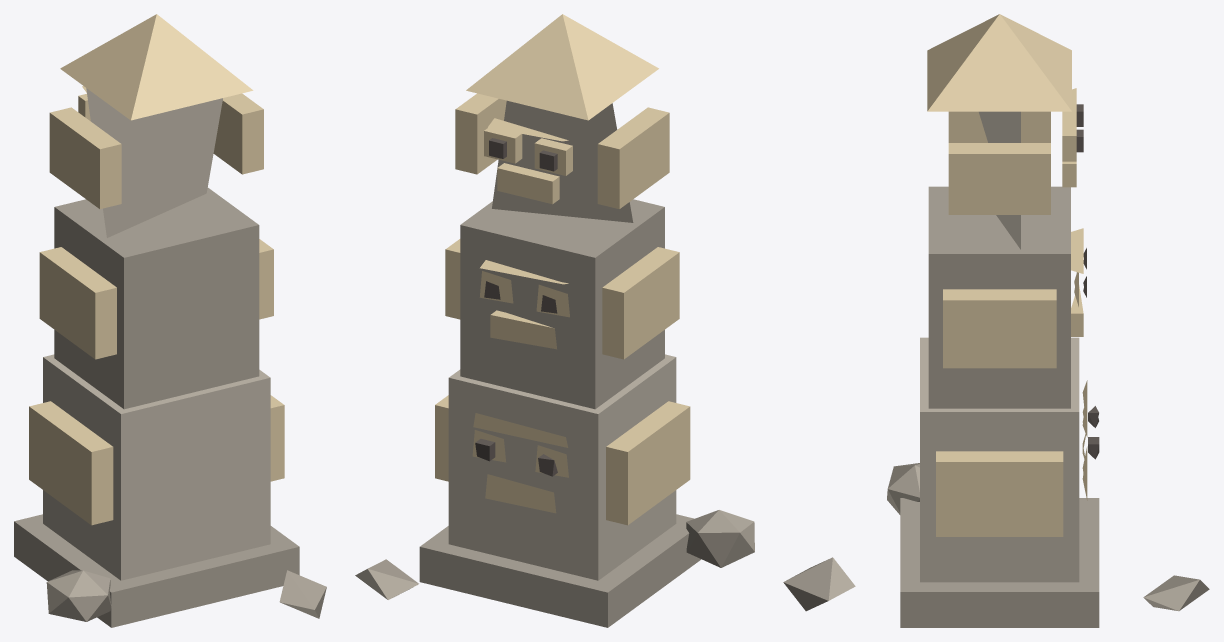
The model's file is 45-Arte3D_totem_isla.glb.
3 views of the same model, side by side, from view 1: azimuth 30°, elevation 25°; view 2: azimuth 150°, elevation 25°; view 3: azimuth 270°, elevation 25° (orthographic). The views are drawn at different scales.
Visible parts, largest first — view 1: SM_Totem_M_Piedra_Totem_Osc, SM_Totem_M_Piedra_Totem, SM_Totem_M_Talla_Totem; view 2: SM_Totem_M_Talla_Totem, SM_Totem_M_Piedra_Totem_Osc, SM_Totem_M_Piedra_Totem, SM_Totem_M_Ojo_Totem; view 3: SM_Totem_M_Talla_Totem, SM_Totem_M_Piedra_Totem_Osc, SM_Totem_M_Piedra_Totem, SM_Totem_M_Ojo_Totem.
Boxes of the visible parts, x1,y1,x2,y2 form: SM_Totem_M_Piedra_Totem_Osc: [14, 187, 326, 627]; SM_Totem_M_Piedra_Totem: [43, 88, 270, 580]; SM_Totem_M_Talla_Totem: [29, 14, 284, 525]; SM_Totem_M_Talla_Totem: [435, 14, 690, 525]; SM_Totem_M_Piedra_Totem_Osc: [355, 199, 754, 627]; SM_Totem_M_Piedra_Totem: [448, 100, 676, 580]; SM_Totem_M_Ojo_Totem: [475, 138, 557, 476]; SM_Totem_M_Talla_Totem: [927, 14, 1087, 536]; SM_Totem_M_Piedra_Totem_Osc: [783, 186, 1209, 627]; SM_Totem_M_Piedra_Totem: [920, 111, 1079, 582]; SM_Totem_M_Ojo_Totem: [1076, 104, 1099, 459].
Size of the model in its own units: 1.12 by 2.2 by 1.5.
